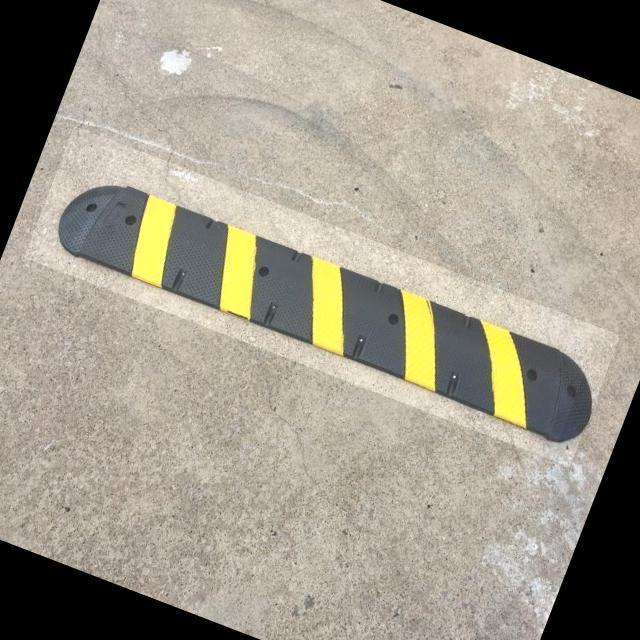speedbreaker: (66, 148, 600, 459)
